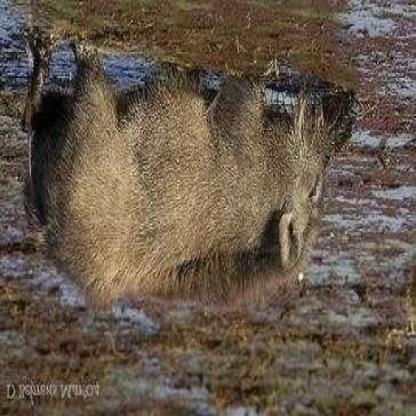boar: (29, 16, 375, 344)
